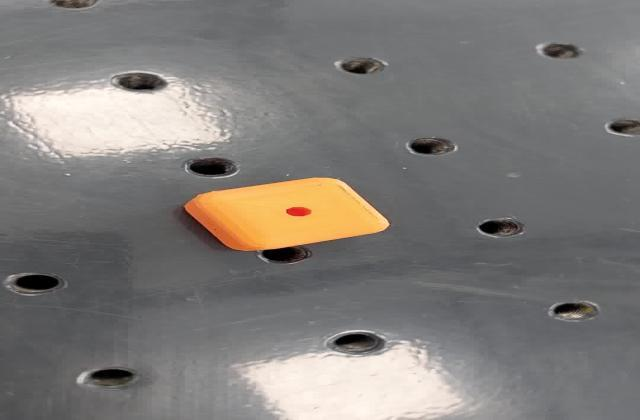cube: (176, 173, 393, 254)
